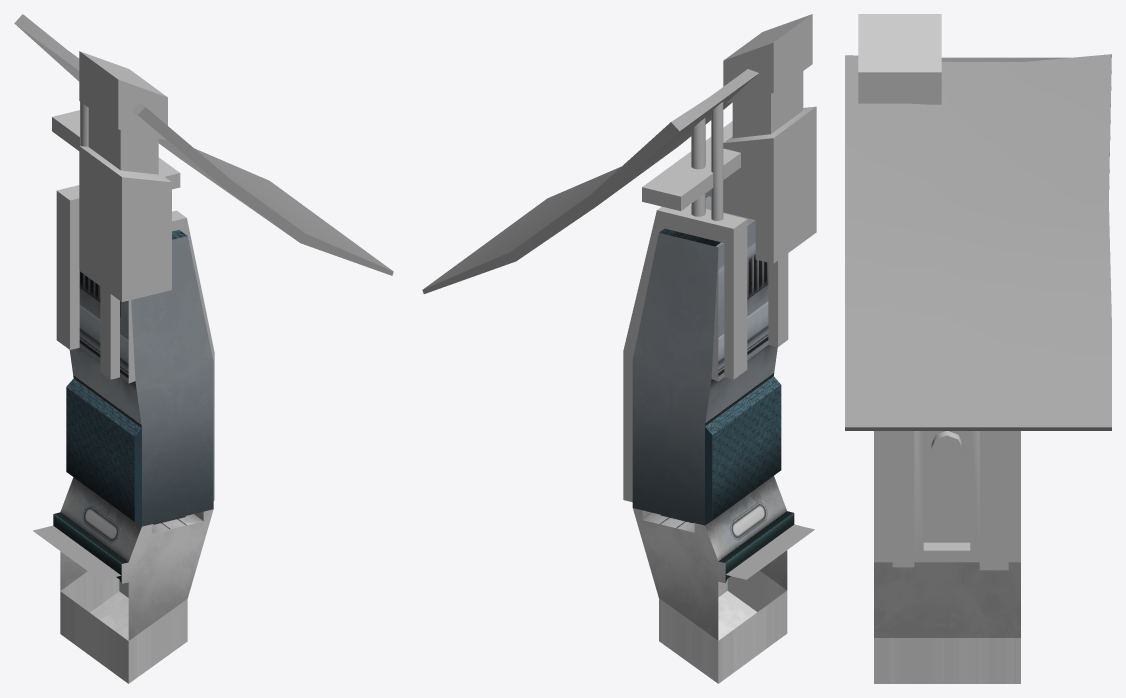
The model's file is SpacialWall_05_ST.fbx.
3 views of the same model, side by side, from view 1: azimuth 30°, elevation 25°; view 2: azimuth 150°, elevation 25°; view 3: azimuth 270°, elevation 25° (orthographic). The views are drawn at different scales.
Parts seen in each view (by area): view 1: SpacialWall_05; view 2: SpacialWall_05; view 3: SpacialWall_05.
Part boxes in pixels (left/top/right/bottom): SpacialWall_05: left=14, top=14, right=393, bottom=683; SpacialWall_05: left=422, top=14, right=816, bottom=683; SpacialWall_05: left=845, top=14, right=1111, bottom=683.
Bounding box in the file's own units: 2.36 × 4.96 × 1.82.
